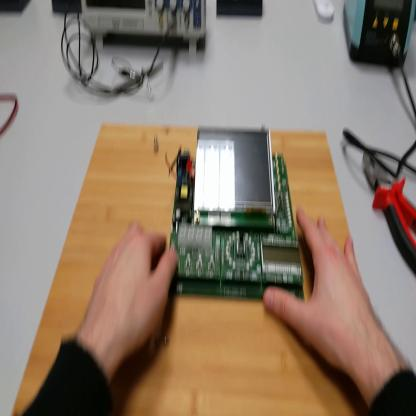hand: (265, 204, 376, 375), (84, 221, 177, 365)
low voltage board: (165, 124, 305, 312)
oscilloscope: (82, 1, 209, 56)
oscilloscope probe tip: (106, 64, 165, 98)
pliers: (364, 149, 416, 278)
socket: (52, 1, 81, 15), (2, 3, 32, 16)
welder station: (344, 2, 416, 71)
working area: (13, 124, 371, 414)
